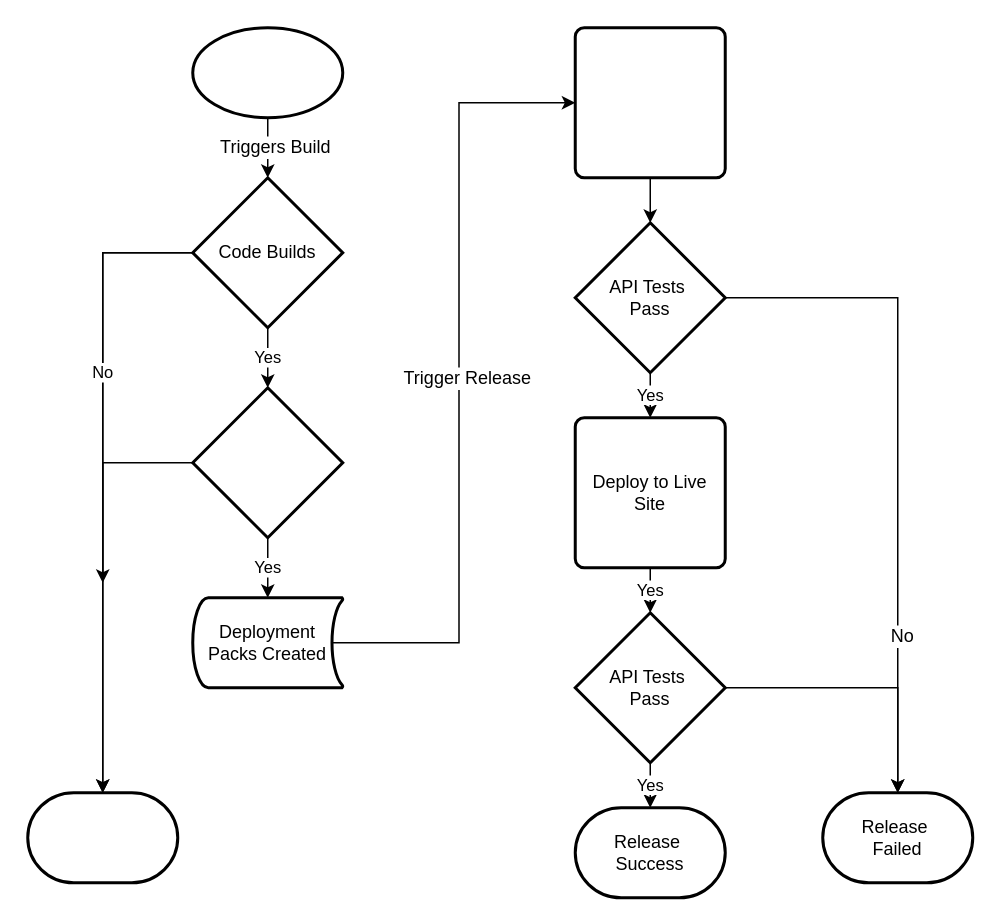
The diagram is 999 pixels wide and 924 high, and some of its shapes have lost their labels. Each missing label, with the centre of its shape:
Build Failure: (x=102, y=837)
Code Pushed: (x=267, y=72)
Deploy to Pre-Prod: (x=649, y=102)
Fast Tests Pass: (x=267, y=462)
